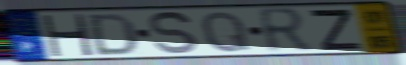D: (87, 12, 138, 57)
H: (39, 14, 95, 57)
Q: (199, 9, 253, 55)
R: (255, 6, 315, 55)
S: (148, 10, 200, 56)
Z: (306, 8, 365, 51)
